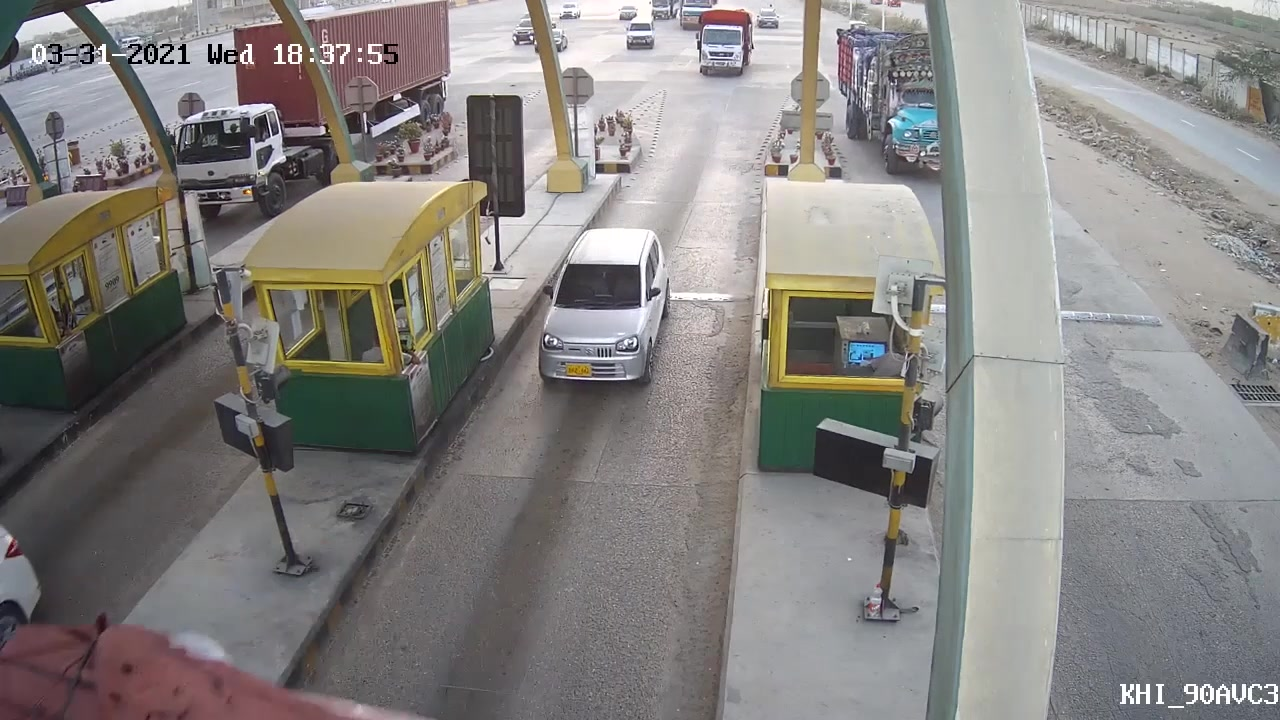F1: (526, 223, 684, 400)
